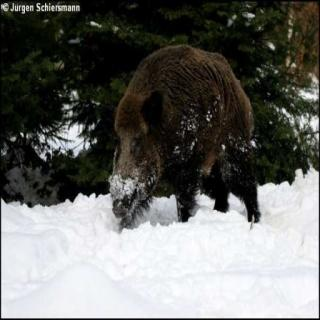Pig: (96, 32, 263, 245)
